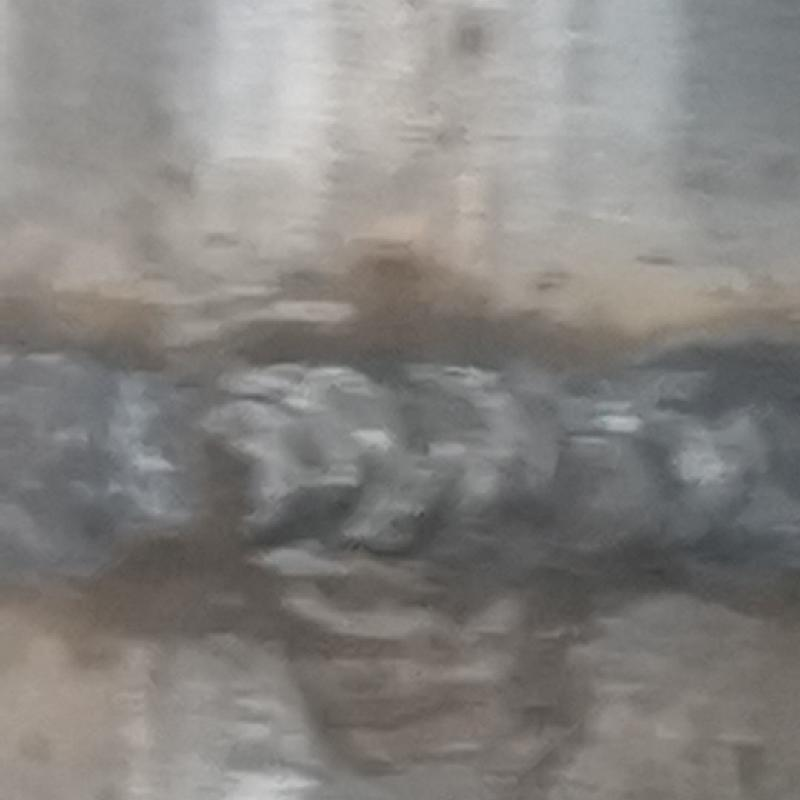good: (2, 329, 799, 614)
